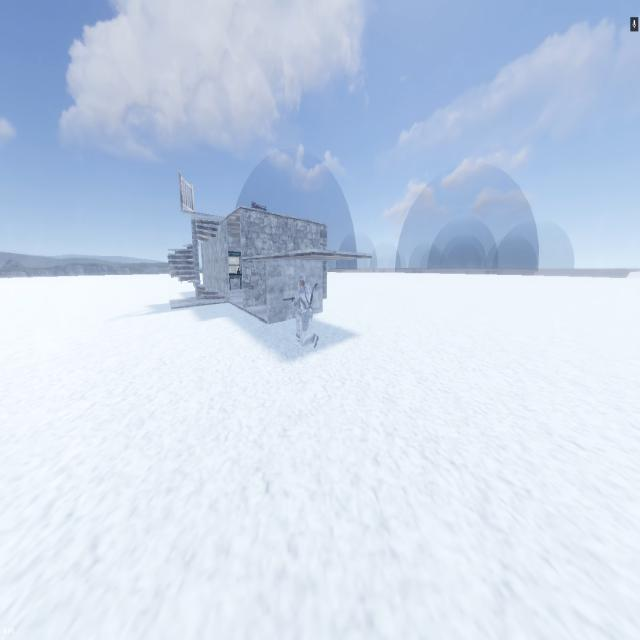Player: (293, 273, 319, 349)
